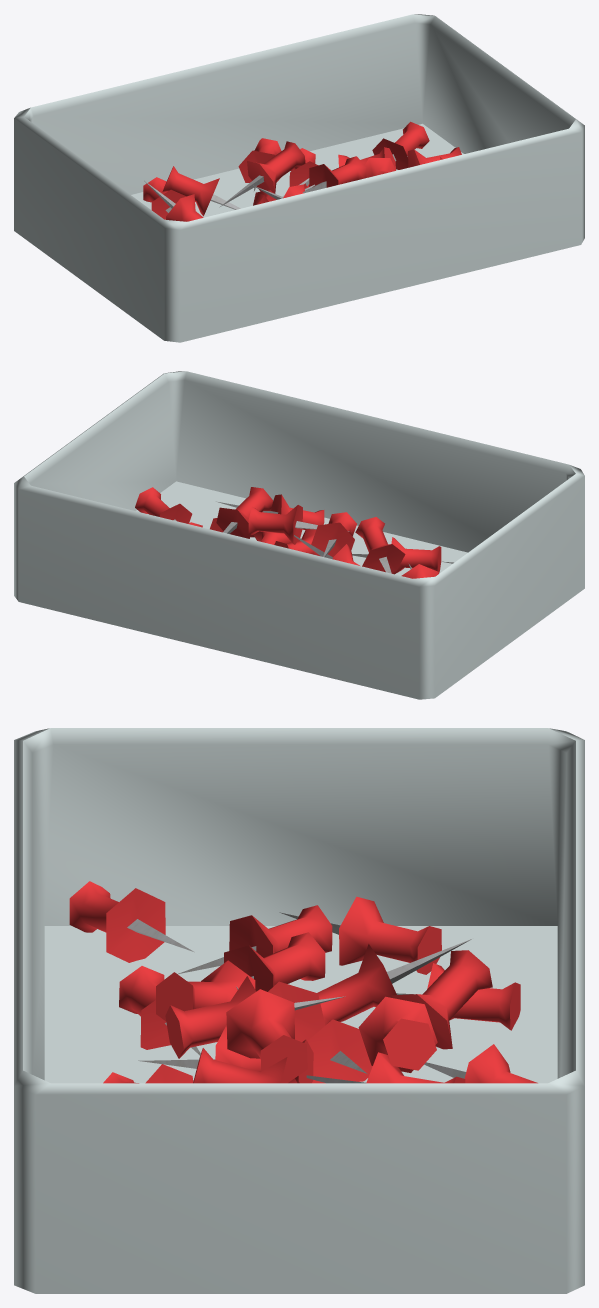
The model's file is WritingUtensil_Containers_1.fbx.
The picture shows the model from 3 angles, top to bottom: view 1: azimuth 30°, elevation 25°; view 2: azimuth 150°, elevation 25°; view 3: azimuth 270°, elevation 25°; orthographic projection. The views are drawn at different scales.
Parts seen in each view (by area): view 1: WritingUtensil_Containers_1; view 2: WritingUtensil_Containers_1; view 3: WritingUtensil_Containers_1.
Part boxes in pixels (left/top/right/bottom): WritingUtensil_Containers_1: left=14, top=14, right=584, bottom=342; WritingUtensil_Containers_1: left=14, top=371, right=584, bottom=699; WritingUtensil_Containers_1: left=14, top=728, right=584, bottom=1293.
Bounding box in the file's own units: 21.01 × 5.7 × 13.95.
